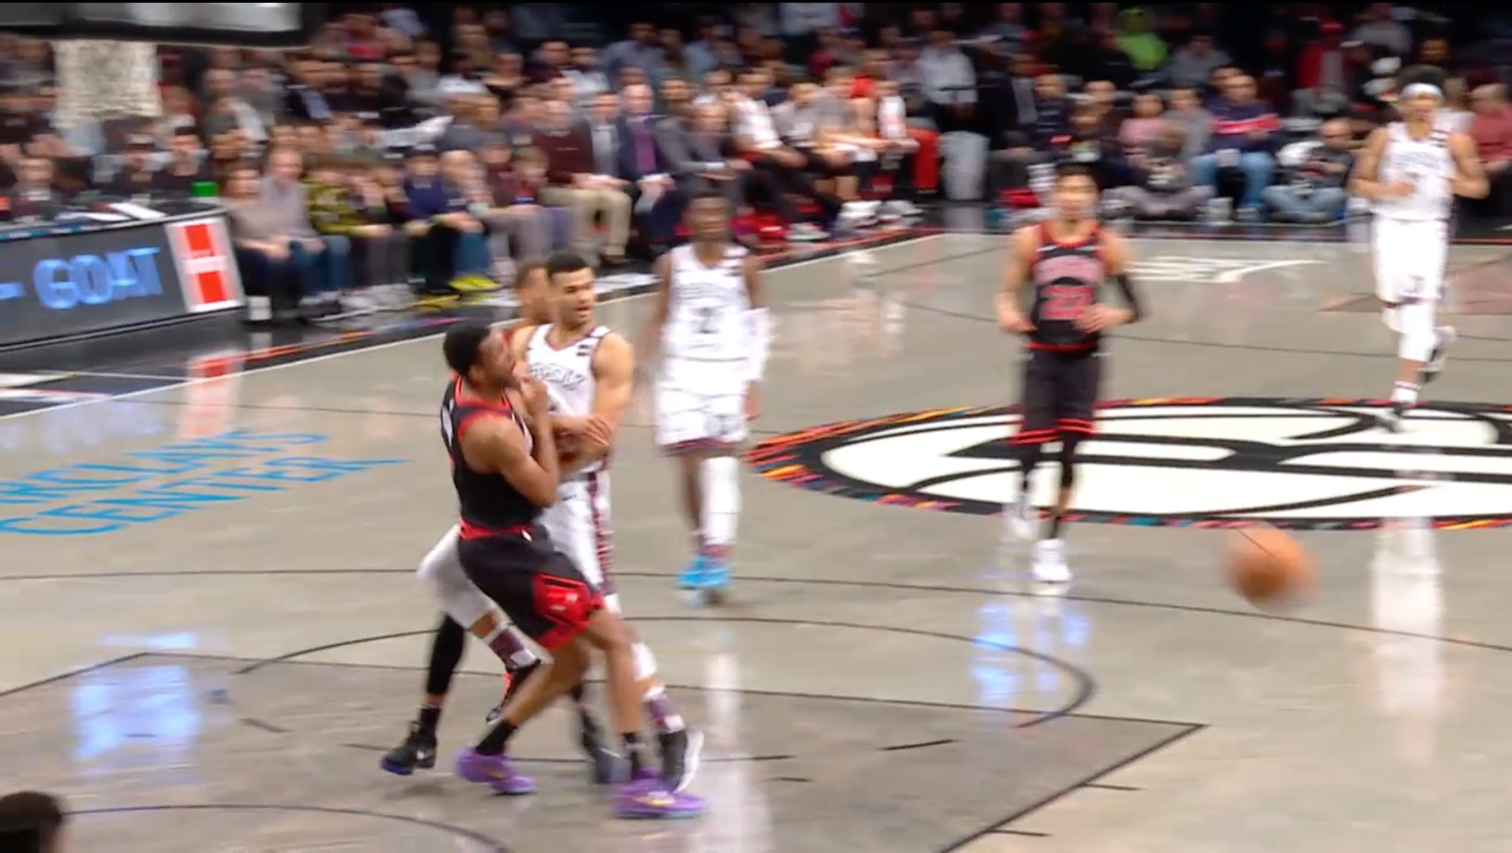Foul: (435, 267, 632, 800)
